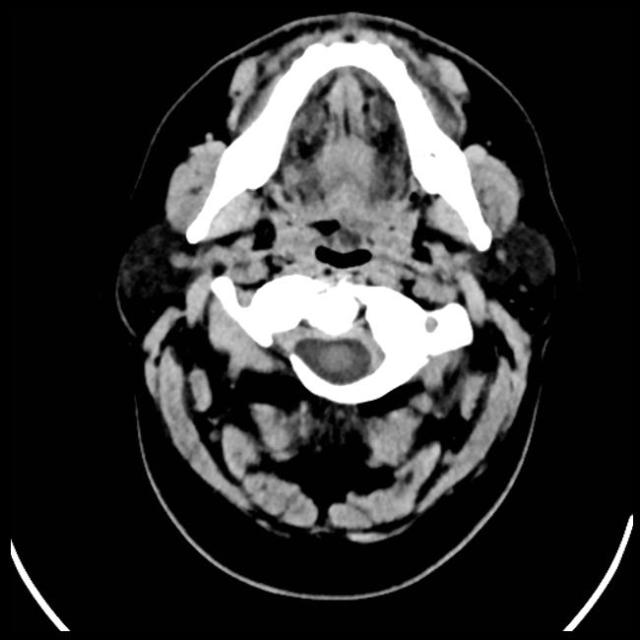lesion: (114, 16, 559, 552)
